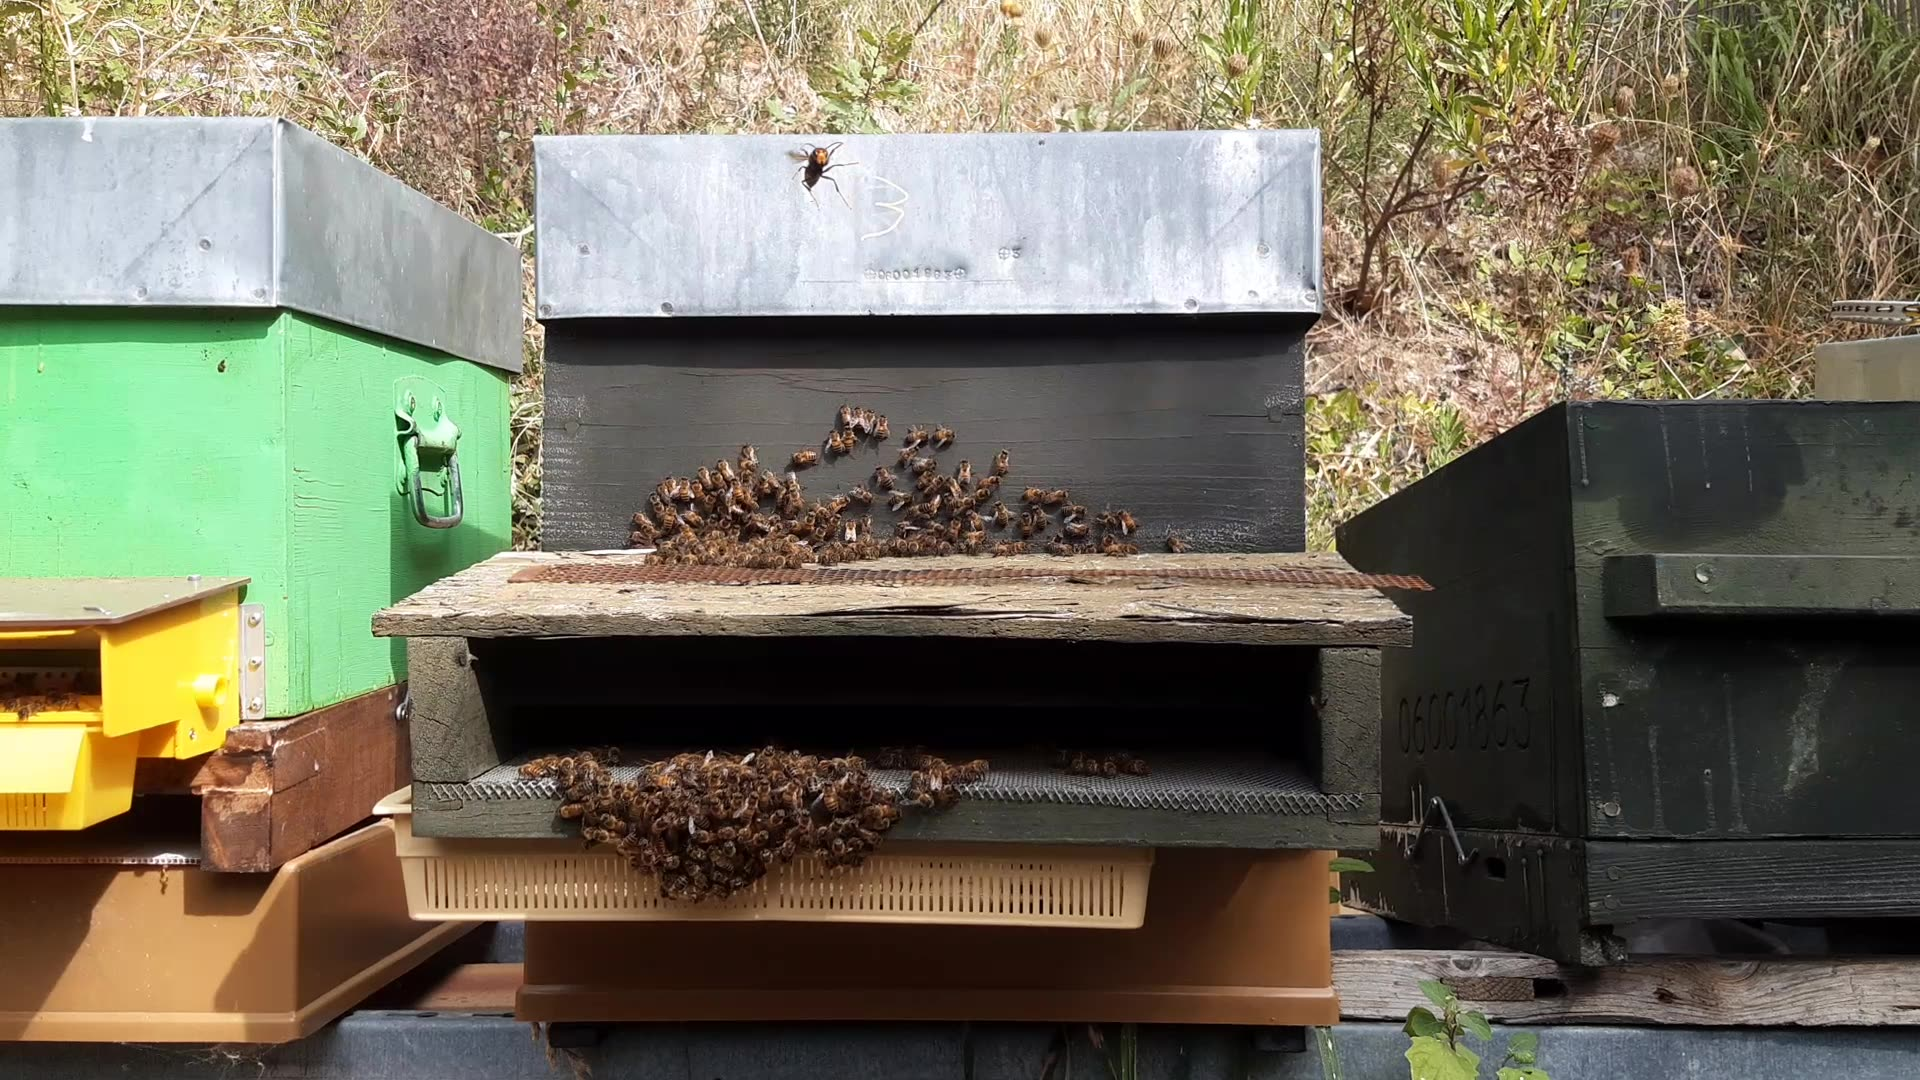bee: (655, 819, 736, 902), (1040, 502, 1134, 553), (509, 750, 593, 804), (818, 498, 894, 554), (719, 729, 814, 770), (909, 493, 976, 549), (721, 465, 789, 518), (510, 415, 564, 471), (823, 419, 890, 462), (748, 512, 808, 558), (844, 480, 905, 522), (649, 742, 729, 774), (928, 462, 985, 506), (1025, 487, 1084, 525)
